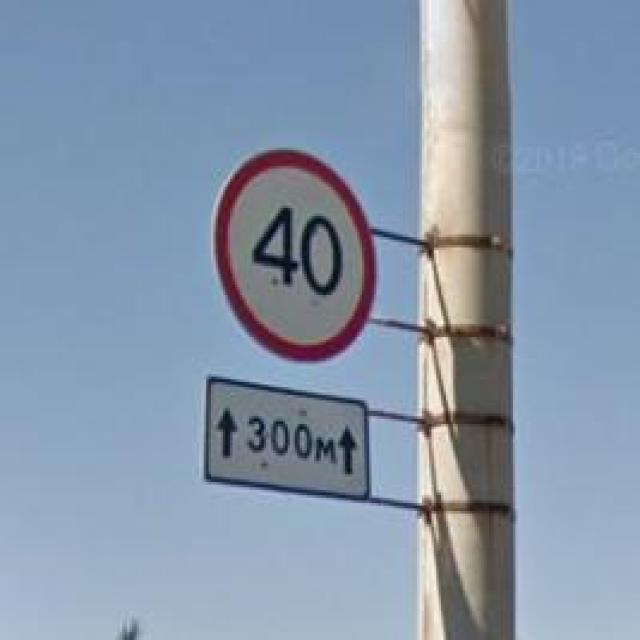Ograniczenie predkosci do 40: (214, 144, 378, 363)
